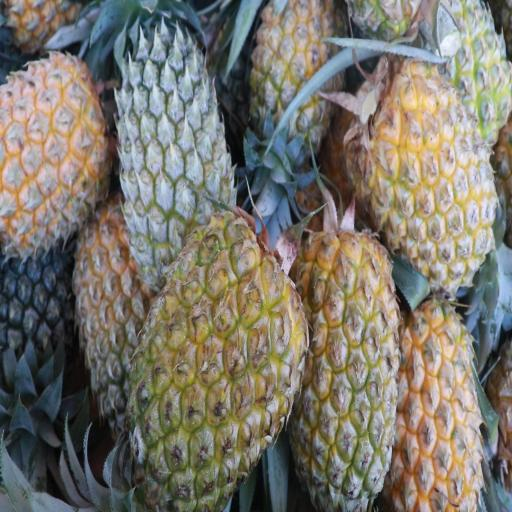------------------------------: (77, 206, 166, 418), (250, 1, 342, 158)
Pineapple - v8 v1: (133, 217, 298, 512), (298, 236, 400, 512), (360, 70, 490, 272), (0, 47, 110, 236), (395, 301, 482, 512)
